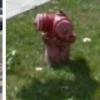a fire hydrant: (36, 12, 76, 63)
